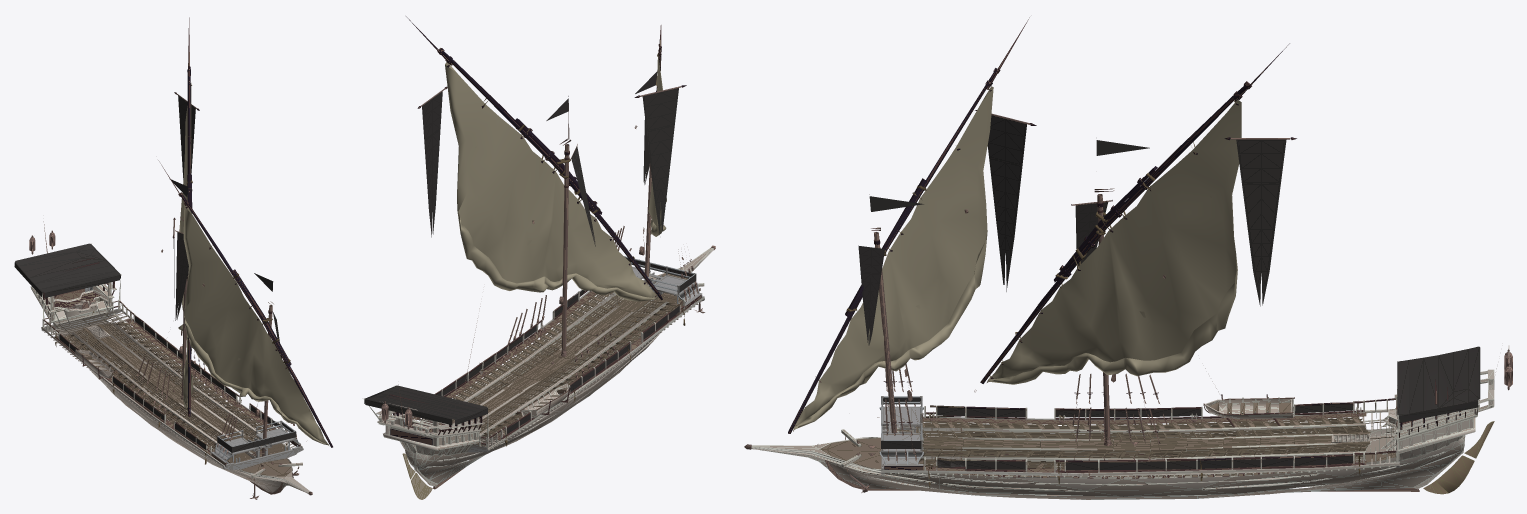
The model's file is gondor.glb.
3 renders of one model, left to right at view 1: azimuth 30°, elevation 25°; view 2: azimuth 150°, elevation 25°; view 3: azimuth 270°, elevation 25°, orthographic. The views are drawn at different scales.
Visible parts, largest first — view 1: Model001_5_sail_0_4_0_0_0, Model001_4_keel_upper_0_4_0_0_0, Model001_4_deck_0_4_0_0_0, Model001_4_keel_upper_5_0_4_0_0_0, Model001_4_mixt_a_10_0_4_0_0_0, Model001_4_mixt_b_6_0_4_0_0_0, Model001_4_keel_lower_0_4_0_0_0; view 2: Model001_5_sail_0_4_0_0_0, Model001_4_keel_upper_0_4_0_0_0, Model001_4_keel_upper_5_0_4_0_0_0, Model001_4_deck_0_4_0_0_0, Model001_4_mixt_a_10_0_4_0_0_0, Model001_4_mixt_b_6_0_4_0_0_0, Model001_4_keel_lower_0_4_0_0_0, Model001_4_rudder_0_4_0_0_0, Model001_4_mixt_a_03_0_4_0_0_0; view 3: Model001_5_sail_0_4_0_0_0, Model001_4_keel_upper_0_4_0_0_0, Model001_4_keel_upper_5_0_4_0_0_0, Model001_4_deck_0_4_0_0_0, Model001_4_mixt_a_10_0_4_0_0_0, Model001_4_mixt_b_6_0_4_0_0_0, Model001_4_keel_lower_0_4_0_0_0, Model001_4_rudder_0_4_0_0_0.
Boxes of the visible parts, <box> form: Model001_5_sail_0_4_0_0_0: <box>178,83,328,445</box>; Model001_4_keel_upper_0_4_0_0_0: <box>30,243,310,493</box>; Model001_4_deck_0_4_0_0_0: <box>48,297,291,476</box>; Model001_4_keel_upper_5_0_4_0_0_0: <box>14,95,296,452</box>; Model001_4_mixt_a_10_0_4_0_0_0: <box>43,17,332,477</box>; Model001_4_mixt_b_6_0_4_0_0_0: <box>29,93,312,499</box>; Model001_4_keel_lower_0_4_0_0_0: <box>56,311,285,492</box>; Model001_5_sail_0_4_0_0_0: <box>445,55,666,301</box>; Model001_4_keel_upper_0_4_0_0_0: <box>362,247,713,486</box>; Model001_4_keel_upper_5_0_4_0_0_0: <box>364,71,696,433</box>; Model001_4_deck_0_4_0_0_0: <box>412,273,687,447</box>; Model001_4_mixt_a_10_0_4_0_0_0: <box>380,16,701,445</box>; Model001_4_mixt_b_6_0_4_0_0_0: <box>381,86,715,489</box>; Model001_4_keel_lower_0_4_0_0_0: <box>411,362,630,483</box>; Model001_4_rudder_0_4_0_0_0: <box>402,453,432,499</box>; Model001_4_mixt_a_03_0_4_0_0_0: <box>449,52,685,446</box>; Model001_5_sail_0_4_0_0_0: <box>793,86,1241,431</box>; Model001_4_keel_upper_0_4_0_0_0: <box>751,345,1509,496</box>; Model001_4_keel_upper_5_0_4_0_0_0: <box>858,115,1480,470</box>; Model001_4_deck_0_4_0_0_0: <box>820,402,1399,478</box>; Model001_4_mixt_a_10_0_4_0_0_0: <box>788,17,1475,478</box>; Model001_4_mixt_b_6_0_4_0_0_0: <box>744,113,1512,492</box>; Model001_4_keel_lower_0_4_0_0_0: <box>819,450,1462,499</box>; Model001_4_rudder_0_4_0_0_0: <box>1423,421,1494,494</box>.
Size of the model in its own units: 6.53 by 17.34 by 24.05.
Materials: 10 (10 with a texture image).
